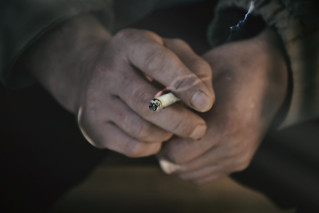cigarette: (147, 91, 184, 114)
